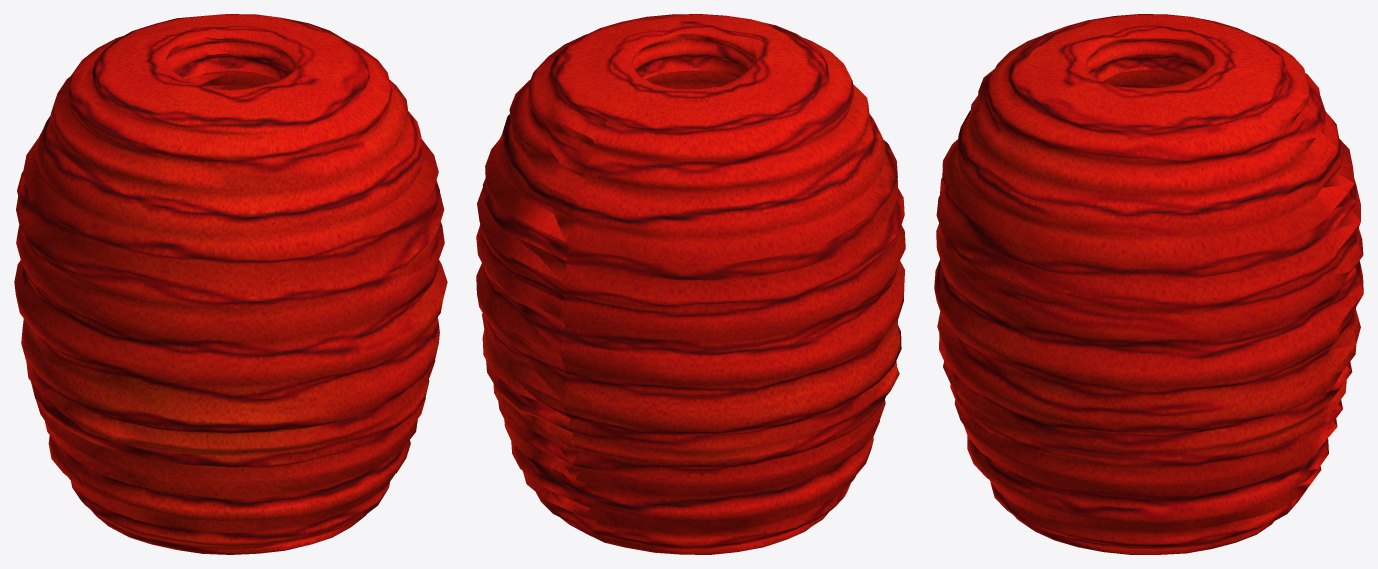
File: LampionModel.FBX
3 renders of one model, left to right at view 1: azimuth 30°, elevation 25°; view 2: azimuth 150°, elevation 25°; view 3: azimuth 270°, elevation 25°, orthographic.
Visible parts, largest first — view 1: lantern03; view 2: lantern03; view 3: lantern03.
Boxes of the visible parts, x1,y1,x2,y2 form: lantern03: (14, 14, 447, 554); lantern03: (476, 14, 905, 554); lantern03: (934, 14, 1363, 554).
Bounding box in the file's own units: 9.81 × 11.08 × 9.77.
1 material, 1 textured.
